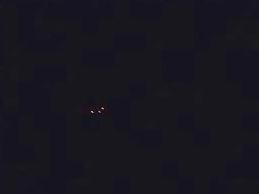Plane: (82, 102, 114, 119)
